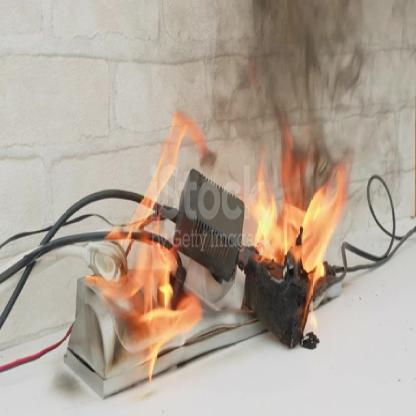fire: (86, 109, 215, 384), (248, 141, 349, 315)
smoke: (152, 0, 416, 197)
